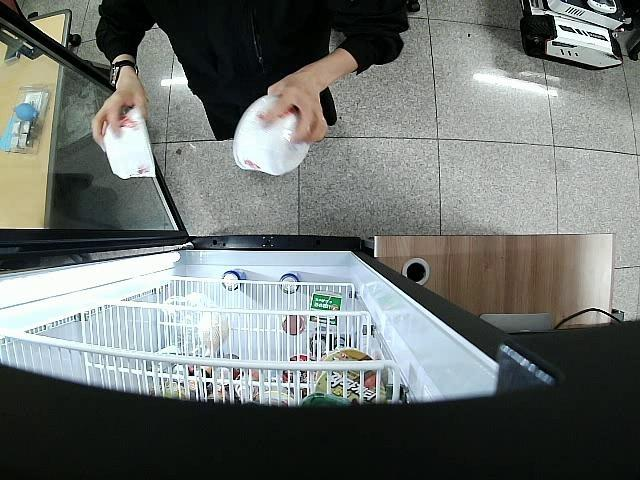09_yukGaeJang: (234, 94, 311, 176), (100, 106, 158, 182)
